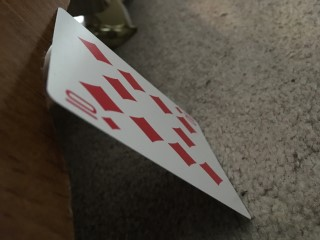TenOfDiamonds: (45, 7, 254, 220)
